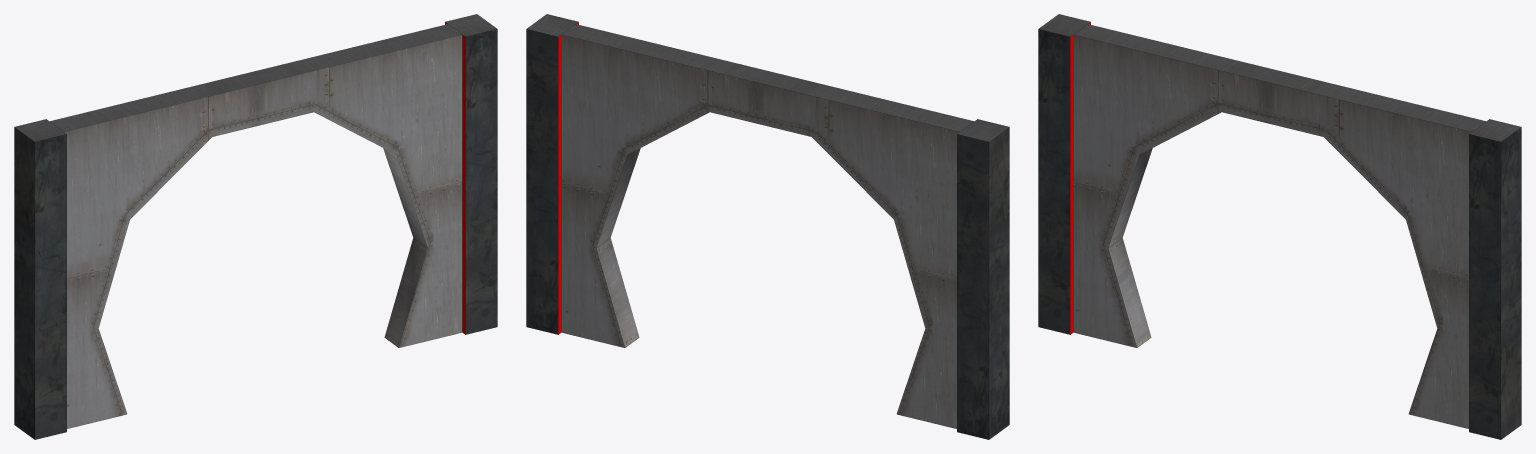
The model's file is metal arch.glb.
3 renders of one model, left to right at view 1: azimuth 30°, elevation 25°; view 2: azimuth 150°, elevation 25°; view 3: azimuth 330°, elevation 25°, orthographic.
Visible parts, largest first — view 1: Arch_Low; view 2: Arch_Low; view 3: Arch_Low.
Boxes of the visible parts, x1,y1,x2,y2 form: Arch_Low: (14,14,497,439); Arch_Low: (526,14,1009,439); Arch_Low: (1038,14,1521,439).
Size of the model in its own units: 3.42 by 2.1 by 0.2631.
2 materials, 1 textured.
